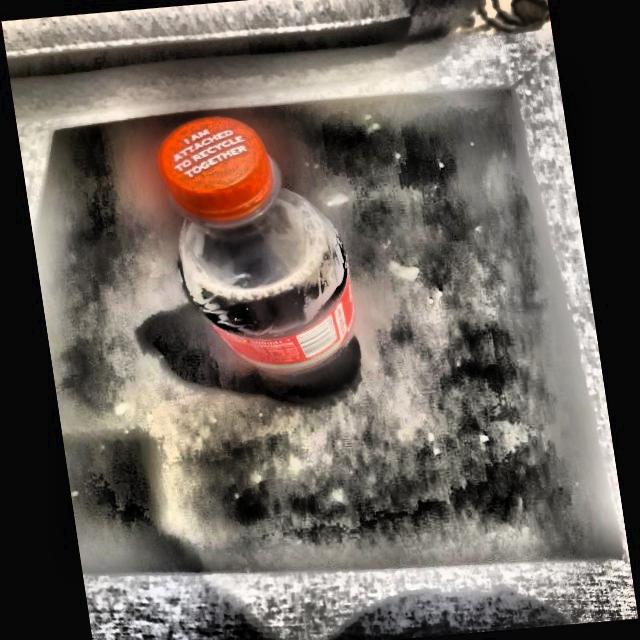coke-bottle: (163, 107, 365, 403)
